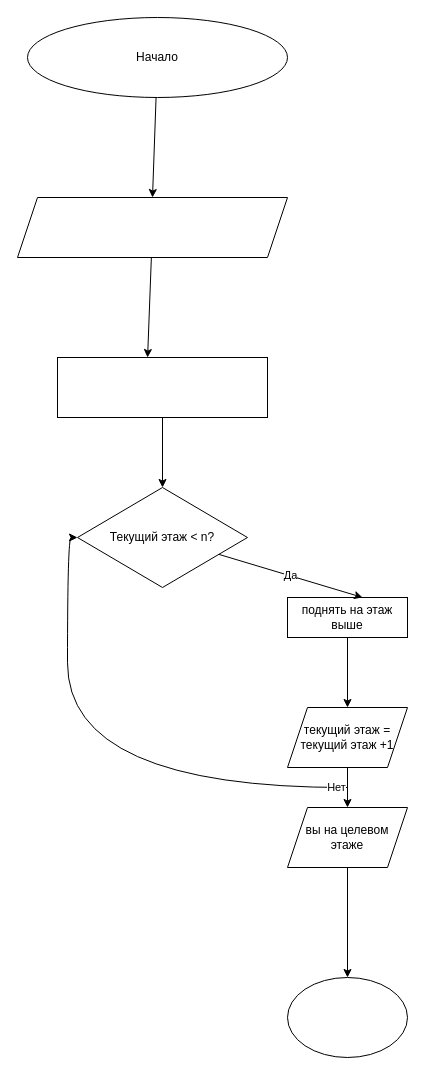
Image size: 425x1075. Some labels were removed from this diagram. The centre of each missing label's shape, as x and y in pixels:
Ввод (этаж): the point at 152,227
Конец: the point at 347,1017
ткущий этаж = 1: the point at 162,387
